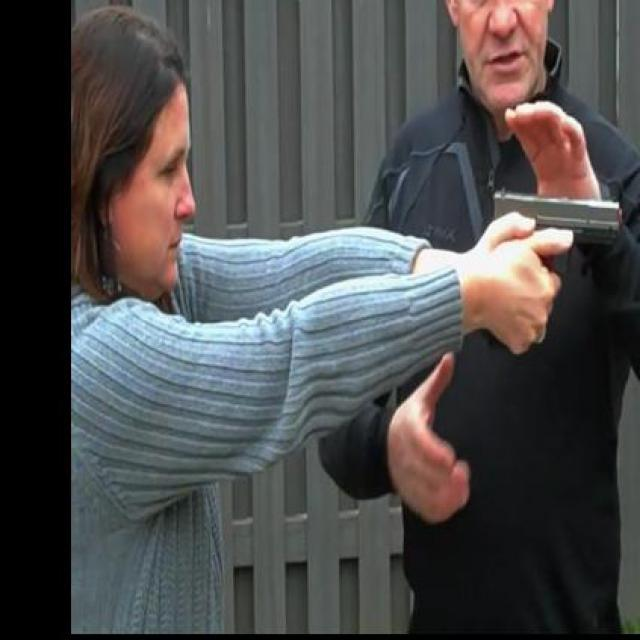Gun: (484, 186, 626, 350)
